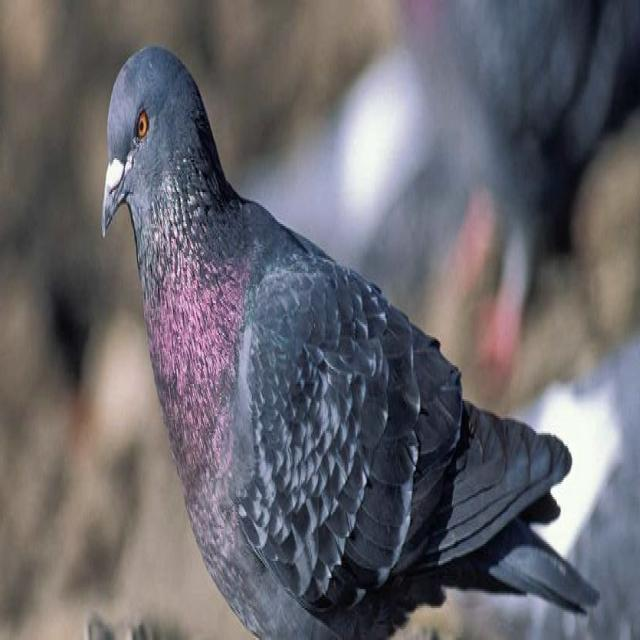pigeon: (103, 47, 598, 638)
